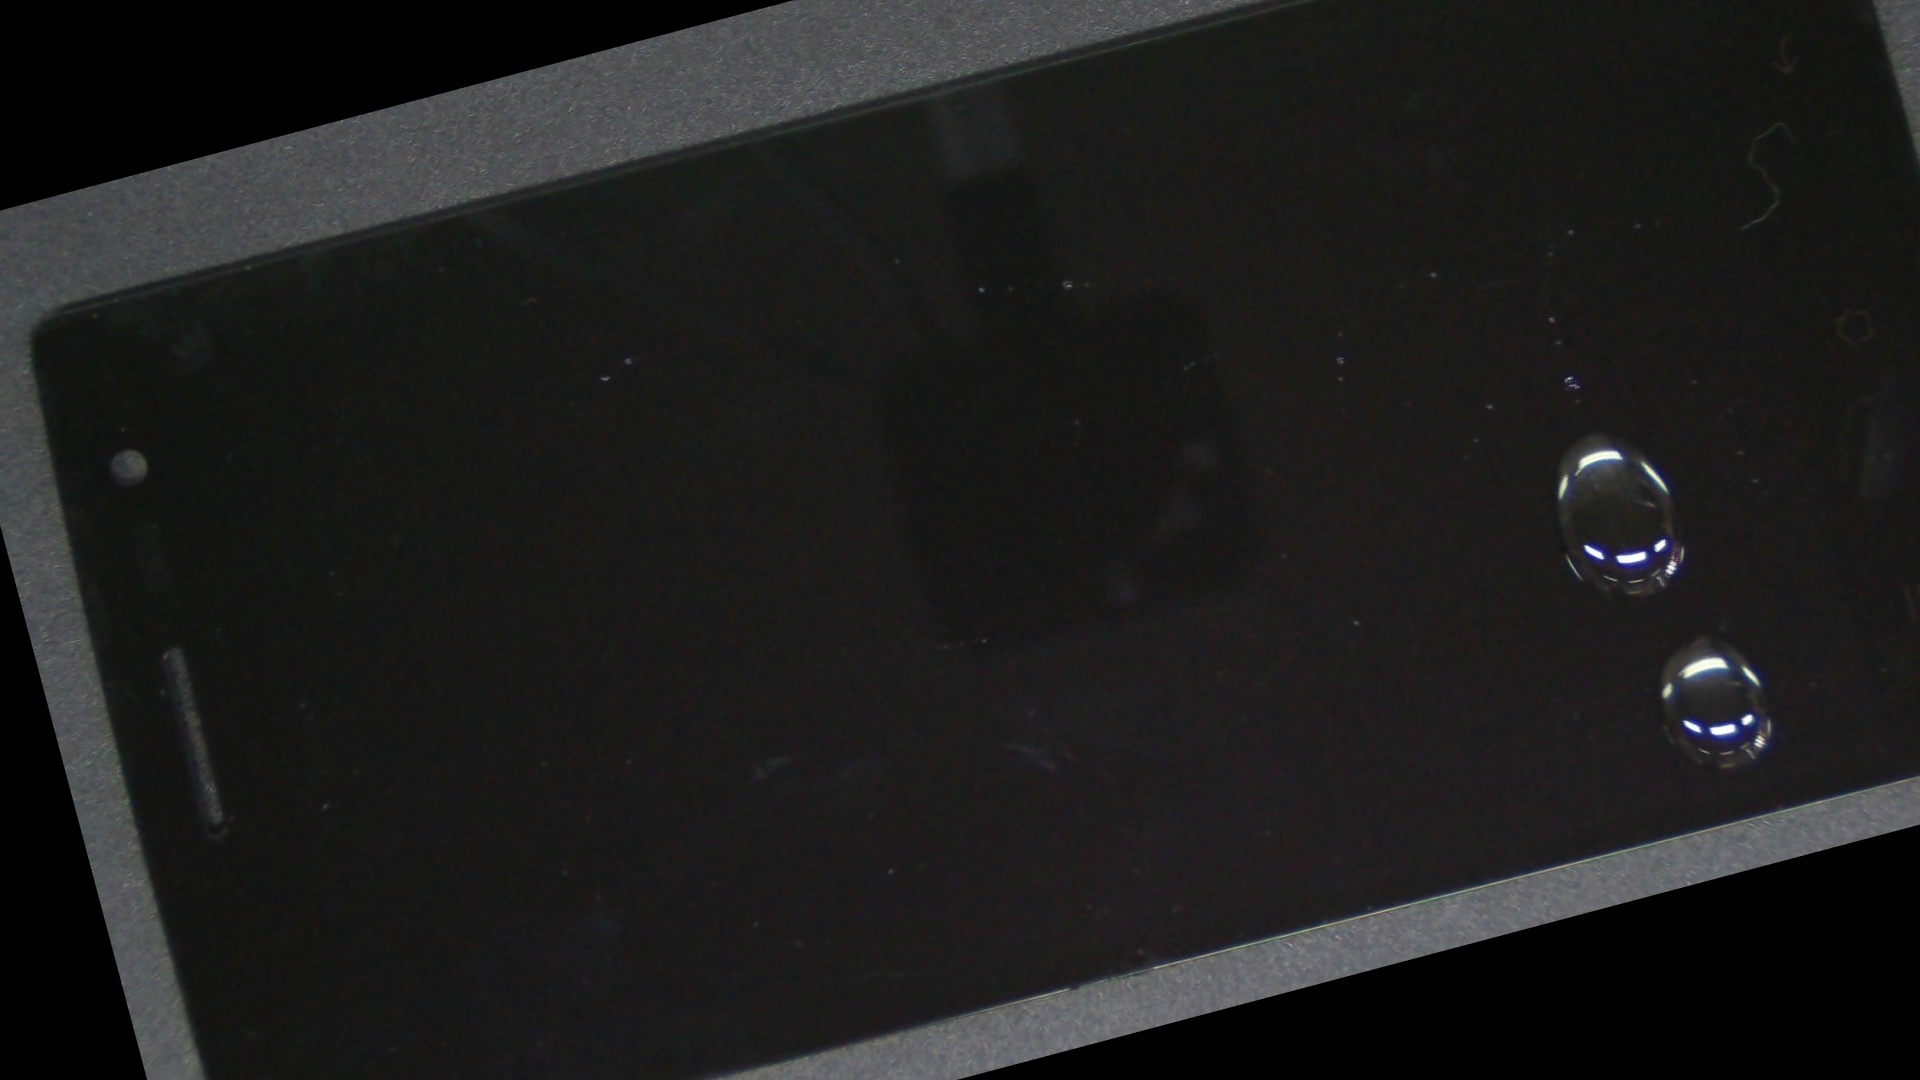oil: (753, 18, 1920, 938), (815, 127, 1920, 1072)
